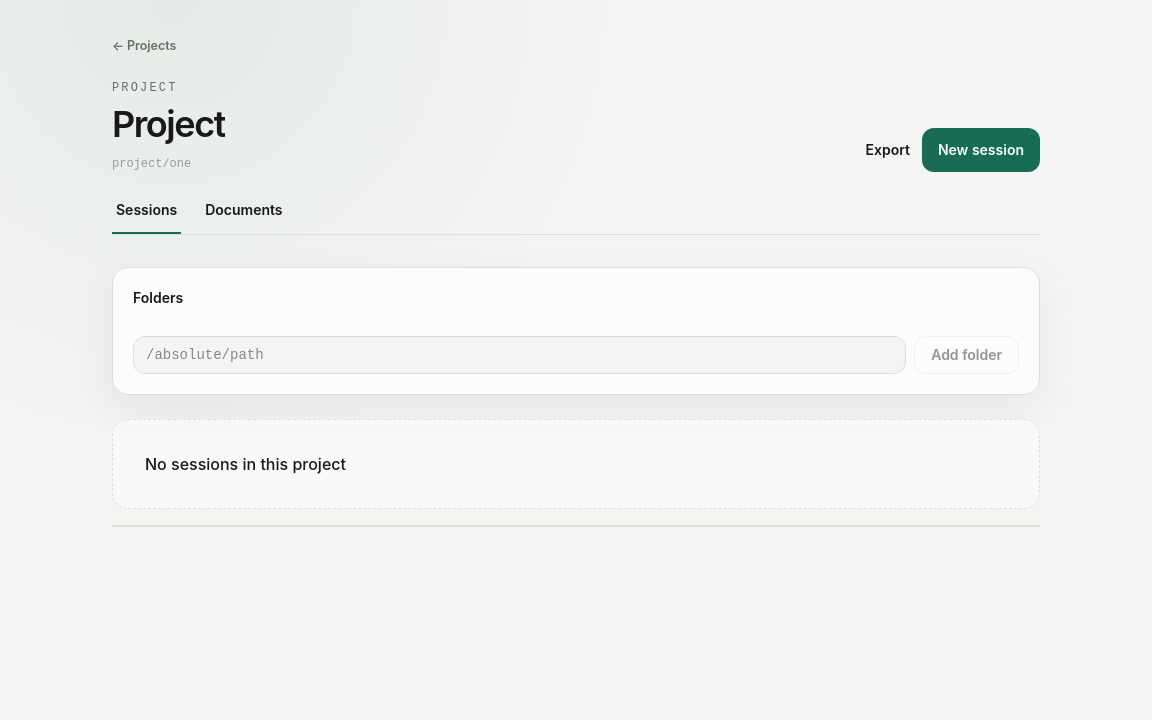
new session explains when no project folder exists
Step 1. Click the button "New session" → (981, 150), box [922, 128, 1040, 172]
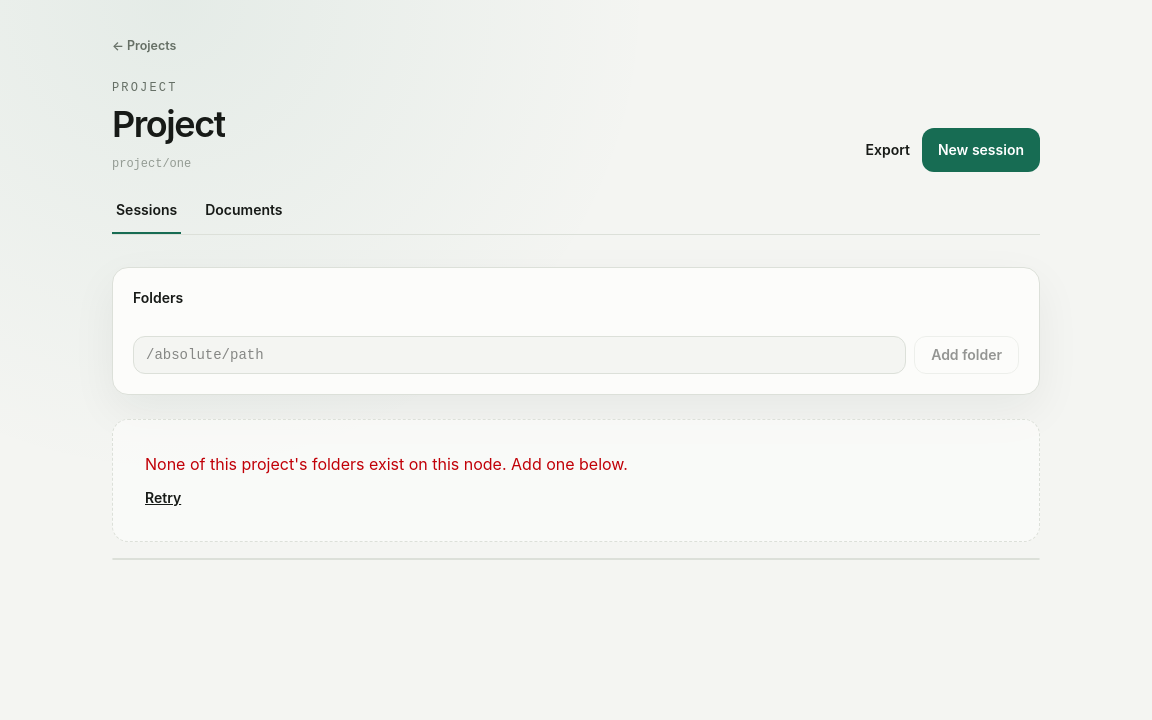
Expected: the text "None of this project's folders exist on this node. Add one below." is shown, [145, 454, 628, 474]
